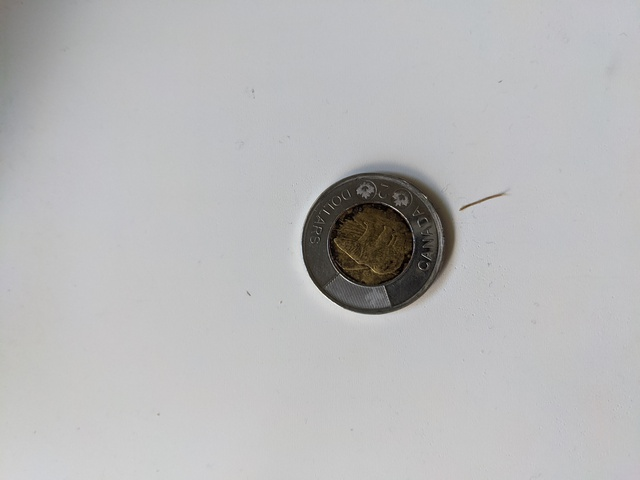twonie: (299, 171, 455, 319)
